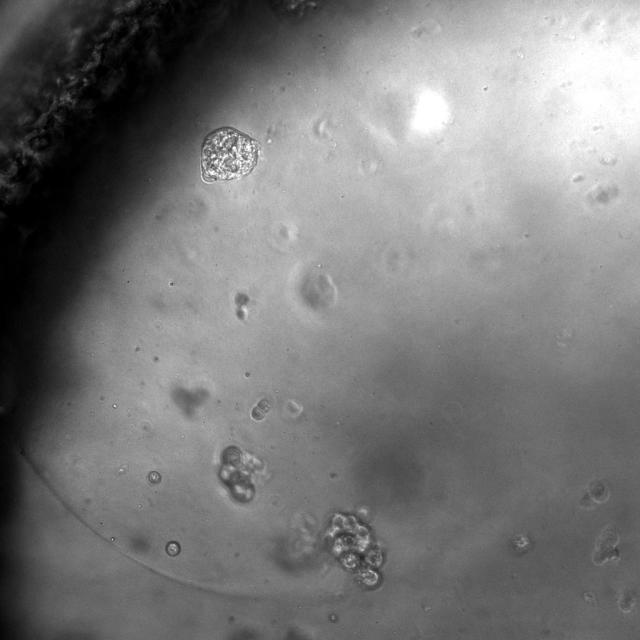organoid: (322, 512, 386, 588), (200, 126, 258, 183), (219, 445, 261, 502), (592, 527, 619, 565), (581, 478, 610, 510), (509, 532, 532, 555), (252, 398, 271, 421), (618, 591, 636, 613), (236, 292, 249, 319), (165, 540, 181, 556), (147, 470, 161, 485)
